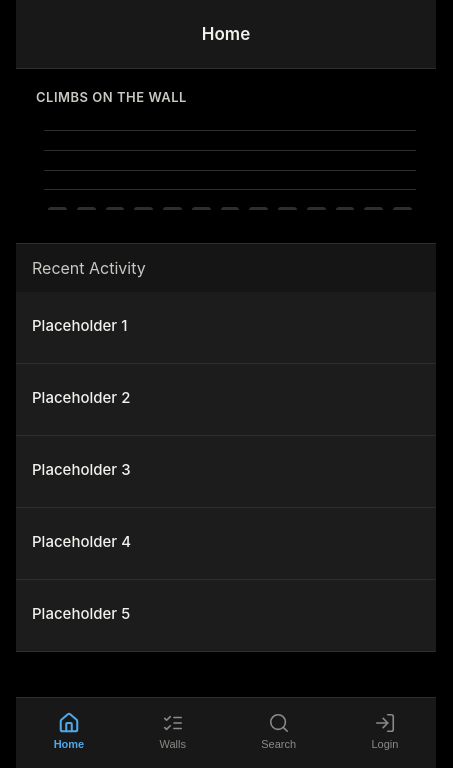
Test: App() — Walls drill-down and back behavior › drills Walls -> a wall's climb list -> back to Walls root
Step 1. Click the button "Walls" → [173, 731], box [152,708,194,754]
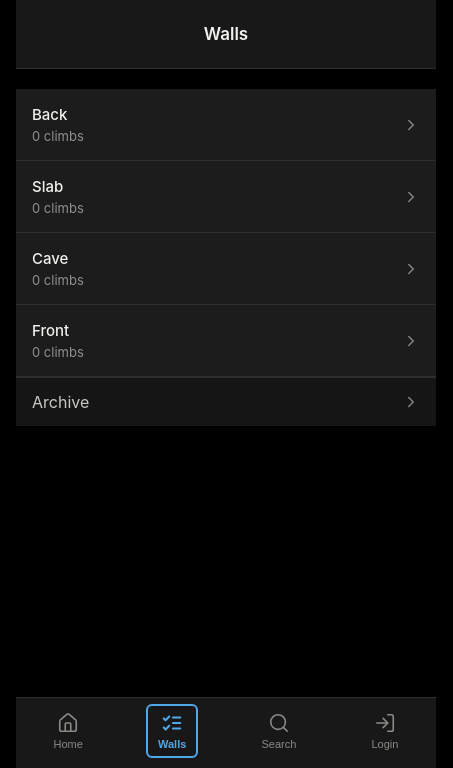
Result: the button "Back 0 climbs" is shown at [16,89,436,161]
Result: the button "Slab 0 climbs" is shown
Step 2. Click the button "Slab 0 climbs" → [48, 186], box [16,161,436,233]
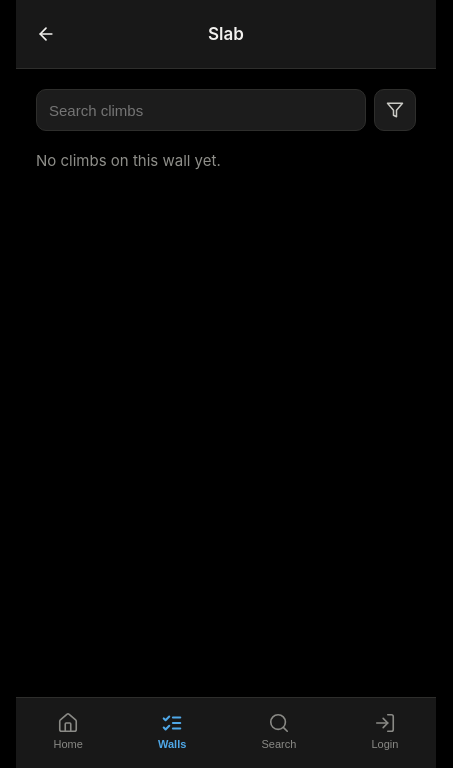
Result: the button named "Back" is shown
Result: the heading "Slab" is shown at [208,24,244,44]
Step 3. Click the button named "Back" → [46, 34], box [28,16,64,52]
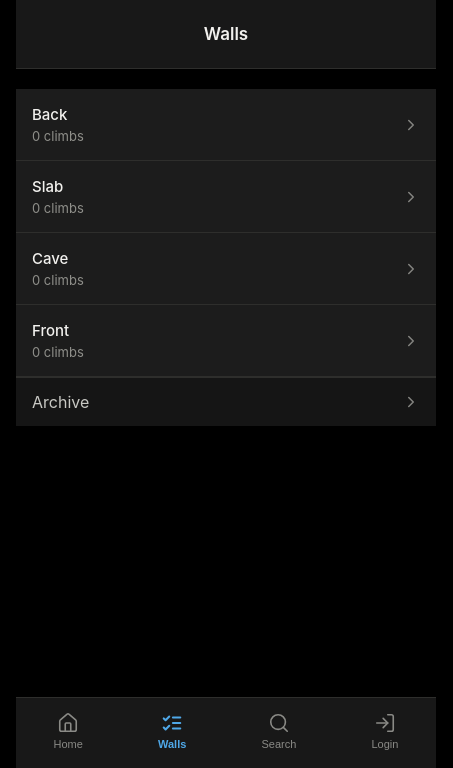
Result: the button "Slab 0 climbs" is shown at [16,161,436,233]
